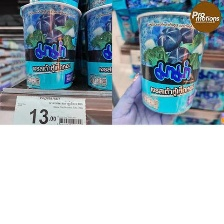paper_cup: (132, 7, 210, 119), (15, 0, 84, 92), (77, 0, 112, 91)
